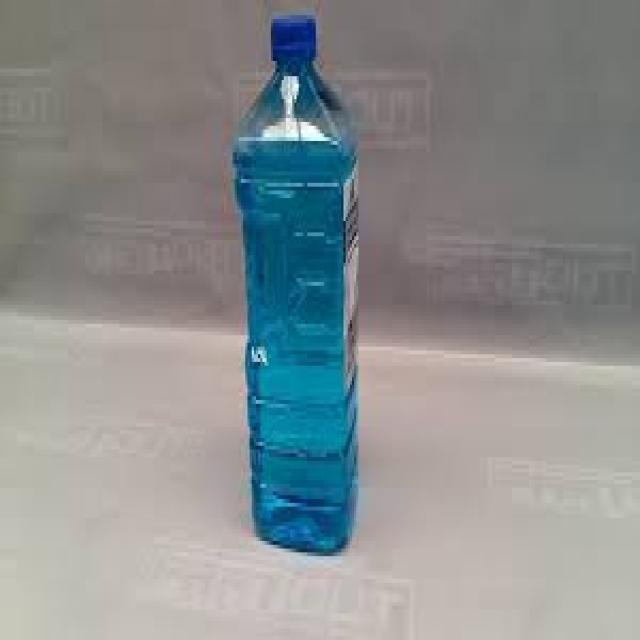winwinshield_washer: (229, 8, 362, 556)
